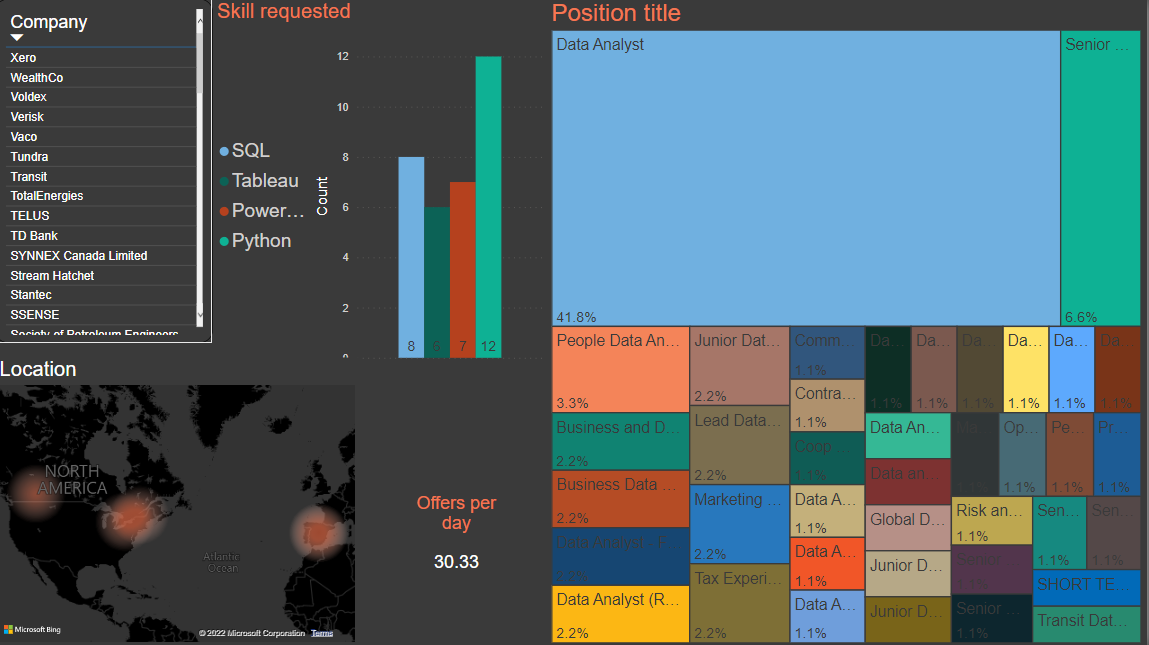

What the dashboard file says about the page in this screenshot:
{"tool":"powerbi","page":{"name":"Page 1","canvas":[1280,720],"ordinal":0},"visuals":[{"type":"clusteredColumnChart","title":"Skill requested","fields":{"Y":["Sum(jobdata.sql)","Sum(jobdata.tableau)","Sum(jobdata.power_bi)","Sum(jobdata.python)"]},"box":[0,178.3,451.7,261.7],"z":0},{"type":"treemap","title":"Position title","fields":{"Group":["jobdata1 (2).title"],"Values":["CountNonNull(jobdata.title)"]},"box":[525,0,755,720],"z":1000},{"type":"map","title":"Location","fields":{"Category":["jobdata.location"]},"box":[0,470,508.3,250],"z":2000},{"type":"card","title":"Number of offers per day","fields":{"Values":["jobdata.offer_per_day"]},"box":[0,0,225,110],"z":3000},{"type":"card","title":"Work from home percentage","fields":{"Values":["jobdata.Workhome"]},"box":[241.7,0,266.7,110],"z":4000}]}

Visuals, with their boxes in screenshot pixels (x1, y1, x2, y2), scaled from the page's 1280x720 canvas onto the 1149x645 screenshot:
"Skill requested" clusteredColumnChart: [0, 160, 405, 394]
"Position title" treemap: [471, 0, 1148, 644]
"Location" map: [0, 421, 456, 644]
"Number of offers per day" card: [0, 0, 202, 99]
"Work from home percentage" card: [217, 0, 456, 99]
